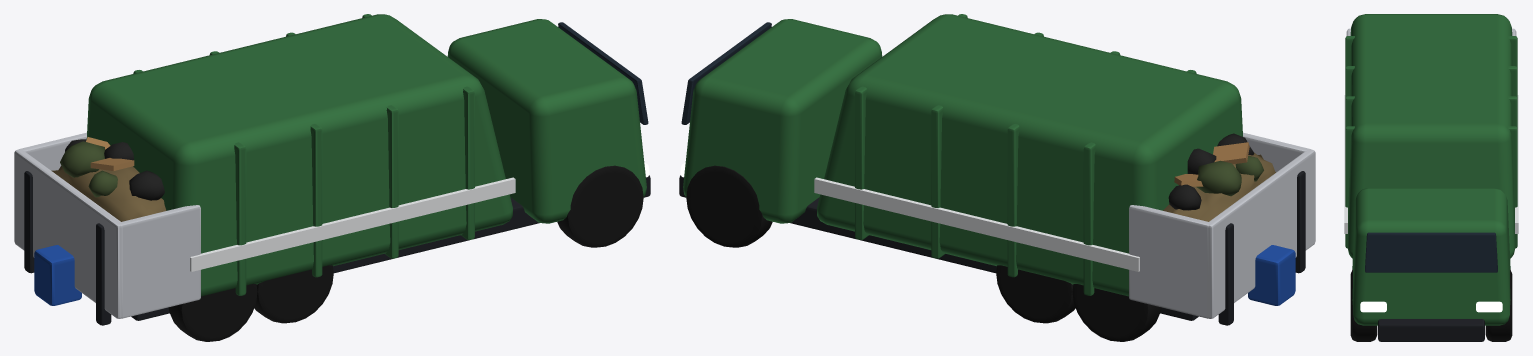
Rendered from garbage.glb.
The picture shows the model from 3 angles, left to right: view 1: azimuth 30°, elevation 25°; view 2: azimuth 150°, elevation 25°; view 3: azimuth 270°, elevation 25°; orthographic projection. The views are drawn at different scales.
Visible parts, largest first — view 1: part-garbage-green, part-chrome, part-livery-white, wheel-+20--1-tyre, part-trim, wheel--20--1-tyre, wheel--12--1-tyre, part-trash-c, part-bin, part-trash-b, part-trash-a, part-glass (+1 smaller); view 2: part-garbage-green, part-chrome, part-livery-white, wheel-+20-1-tyre, part-trim, wheel--20-1-tyre, wheel--12-1-tyre, part-bin, part-trash-c, part-trash-b, part-trash-a, part-glass (+1 smaller); view 3: part-garbage-green, part-glass, part-trim, part-livery-white, wheel-+20-1-tyre, wheel-+20--1-tyre, headlight-1, headlight--1.
Boxes of the visible parts, left/top/right/bottom form: part-garbage-green: left=86, top=14, right=646, bottom=296; part-chrome: left=14, top=132, right=200, bottom=318; part-livery-white: left=190, top=177, right=515, bottom=271; wheel-+20--1-tyre: left=557, top=165, right=643, bottom=247; part-trim: left=24, top=171, right=650, bottom=325; wheel--20--1-tyre: left=168, top=284, right=257, bottom=341; wheel--12--1-tyre: left=254, top=265, right=333, bottom=323; part-trash-c: left=51, top=165, right=166, bottom=221; part-bin: left=34, top=245, right=81, bottom=305; part-trash-b: left=60, top=141, right=117, bottom=197; part-trash-a: left=65, top=139, right=164, bottom=200; part-glass: left=558, top=22, right=648, bottom=124; part-garbage-green: left=683, top=14, right=1242, bottom=296; part-chrome: left=1129, top=132, right=1315, bottom=318; part-livery-white: left=814, top=177, right=1139, bottom=271; wheel-+20-1-tyre: left=686, top=165, right=772, bottom=247; part-trim: left=679, top=171, right=1305, bottom=325; wheel--20-1-tyre: left=1072, top=284, right=1161, bottom=341; wheel--12-1-tyre: left=996, top=265, right=1075, bottom=323; part-bin: left=1248, top=245, right=1295, bottom=305; part-trash-c: left=1163, top=153, right=1275, bottom=221; part-trash-b: left=1196, top=156, right=1263, bottom=196; part-trash-a: left=1168, top=133, right=1254, bottom=210; part-glass: left=681, top=22, right=771, bottom=124; part-garbage-green: left=1345, top=14, right=1517, bottom=325; part-glass: left=1365, top=232, right=1497, bottom=272; part-trim: left=1378, top=319, right=1484, bottom=341; part-livery-white: left=1344, top=95, right=1518, bottom=233; wheel-+20-1-tyre: left=1485, top=269, right=1512, bottom=341; wheel-+20--1-tyre: left=1350, top=269, right=1377, bottom=341; headlight-1: left=1476, top=301, right=1502, bottom=312; headlight--1: left=1360, top=301, right=1386, bottom=312.
Size of the model in its own units: 60.5 by 20.1 by 19.6.
